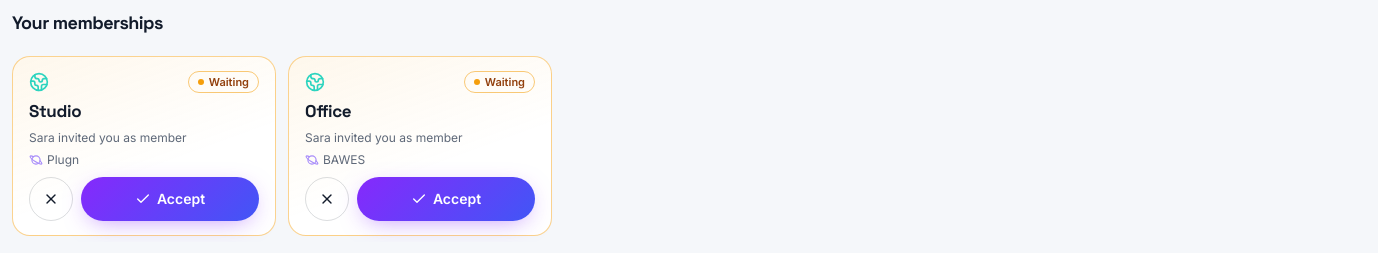
Test: Your memberships on Orbit › asks before declining, and locks only the invitation being answered
Click the button "Accept" below "Plugn" at (170, 199), box [81, 177, 259, 221]
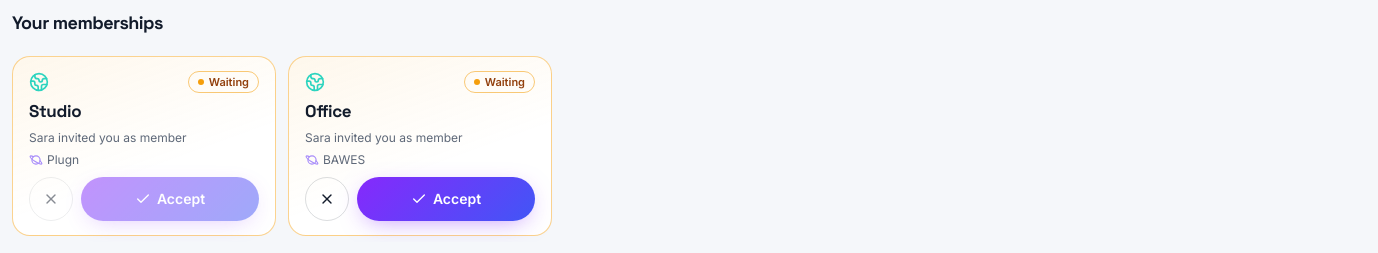
Check: the button "Accept" below "BAWES" is enabled, box [357, 177, 535, 221]
Check: the button "Accept" below "Plugn" is disabled, box [81, 177, 259, 221]
Click the button named "Decline the invitation to Office" at (327, 199), box [305, 177, 349, 221]
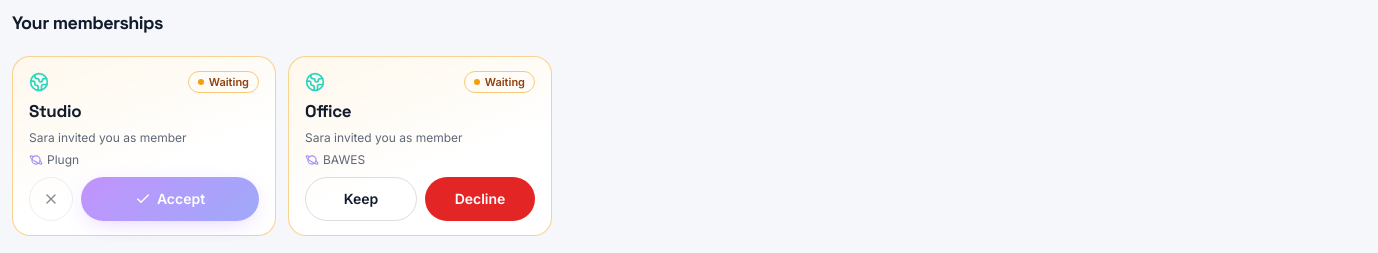
Click the button "Decline" at (480, 199), box [425, 177, 535, 221]
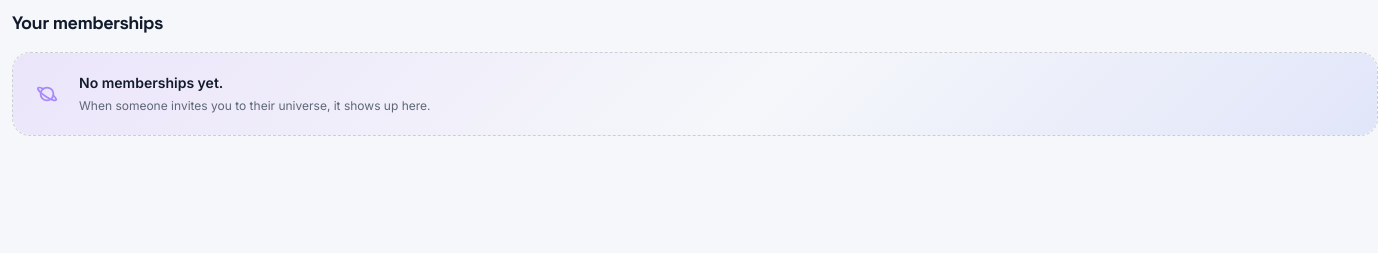
Check: no buttons with test id "invitation" are shown
Check: the element with test id "empty-memberships" is shown, box [12, 52, 1377, 136]
